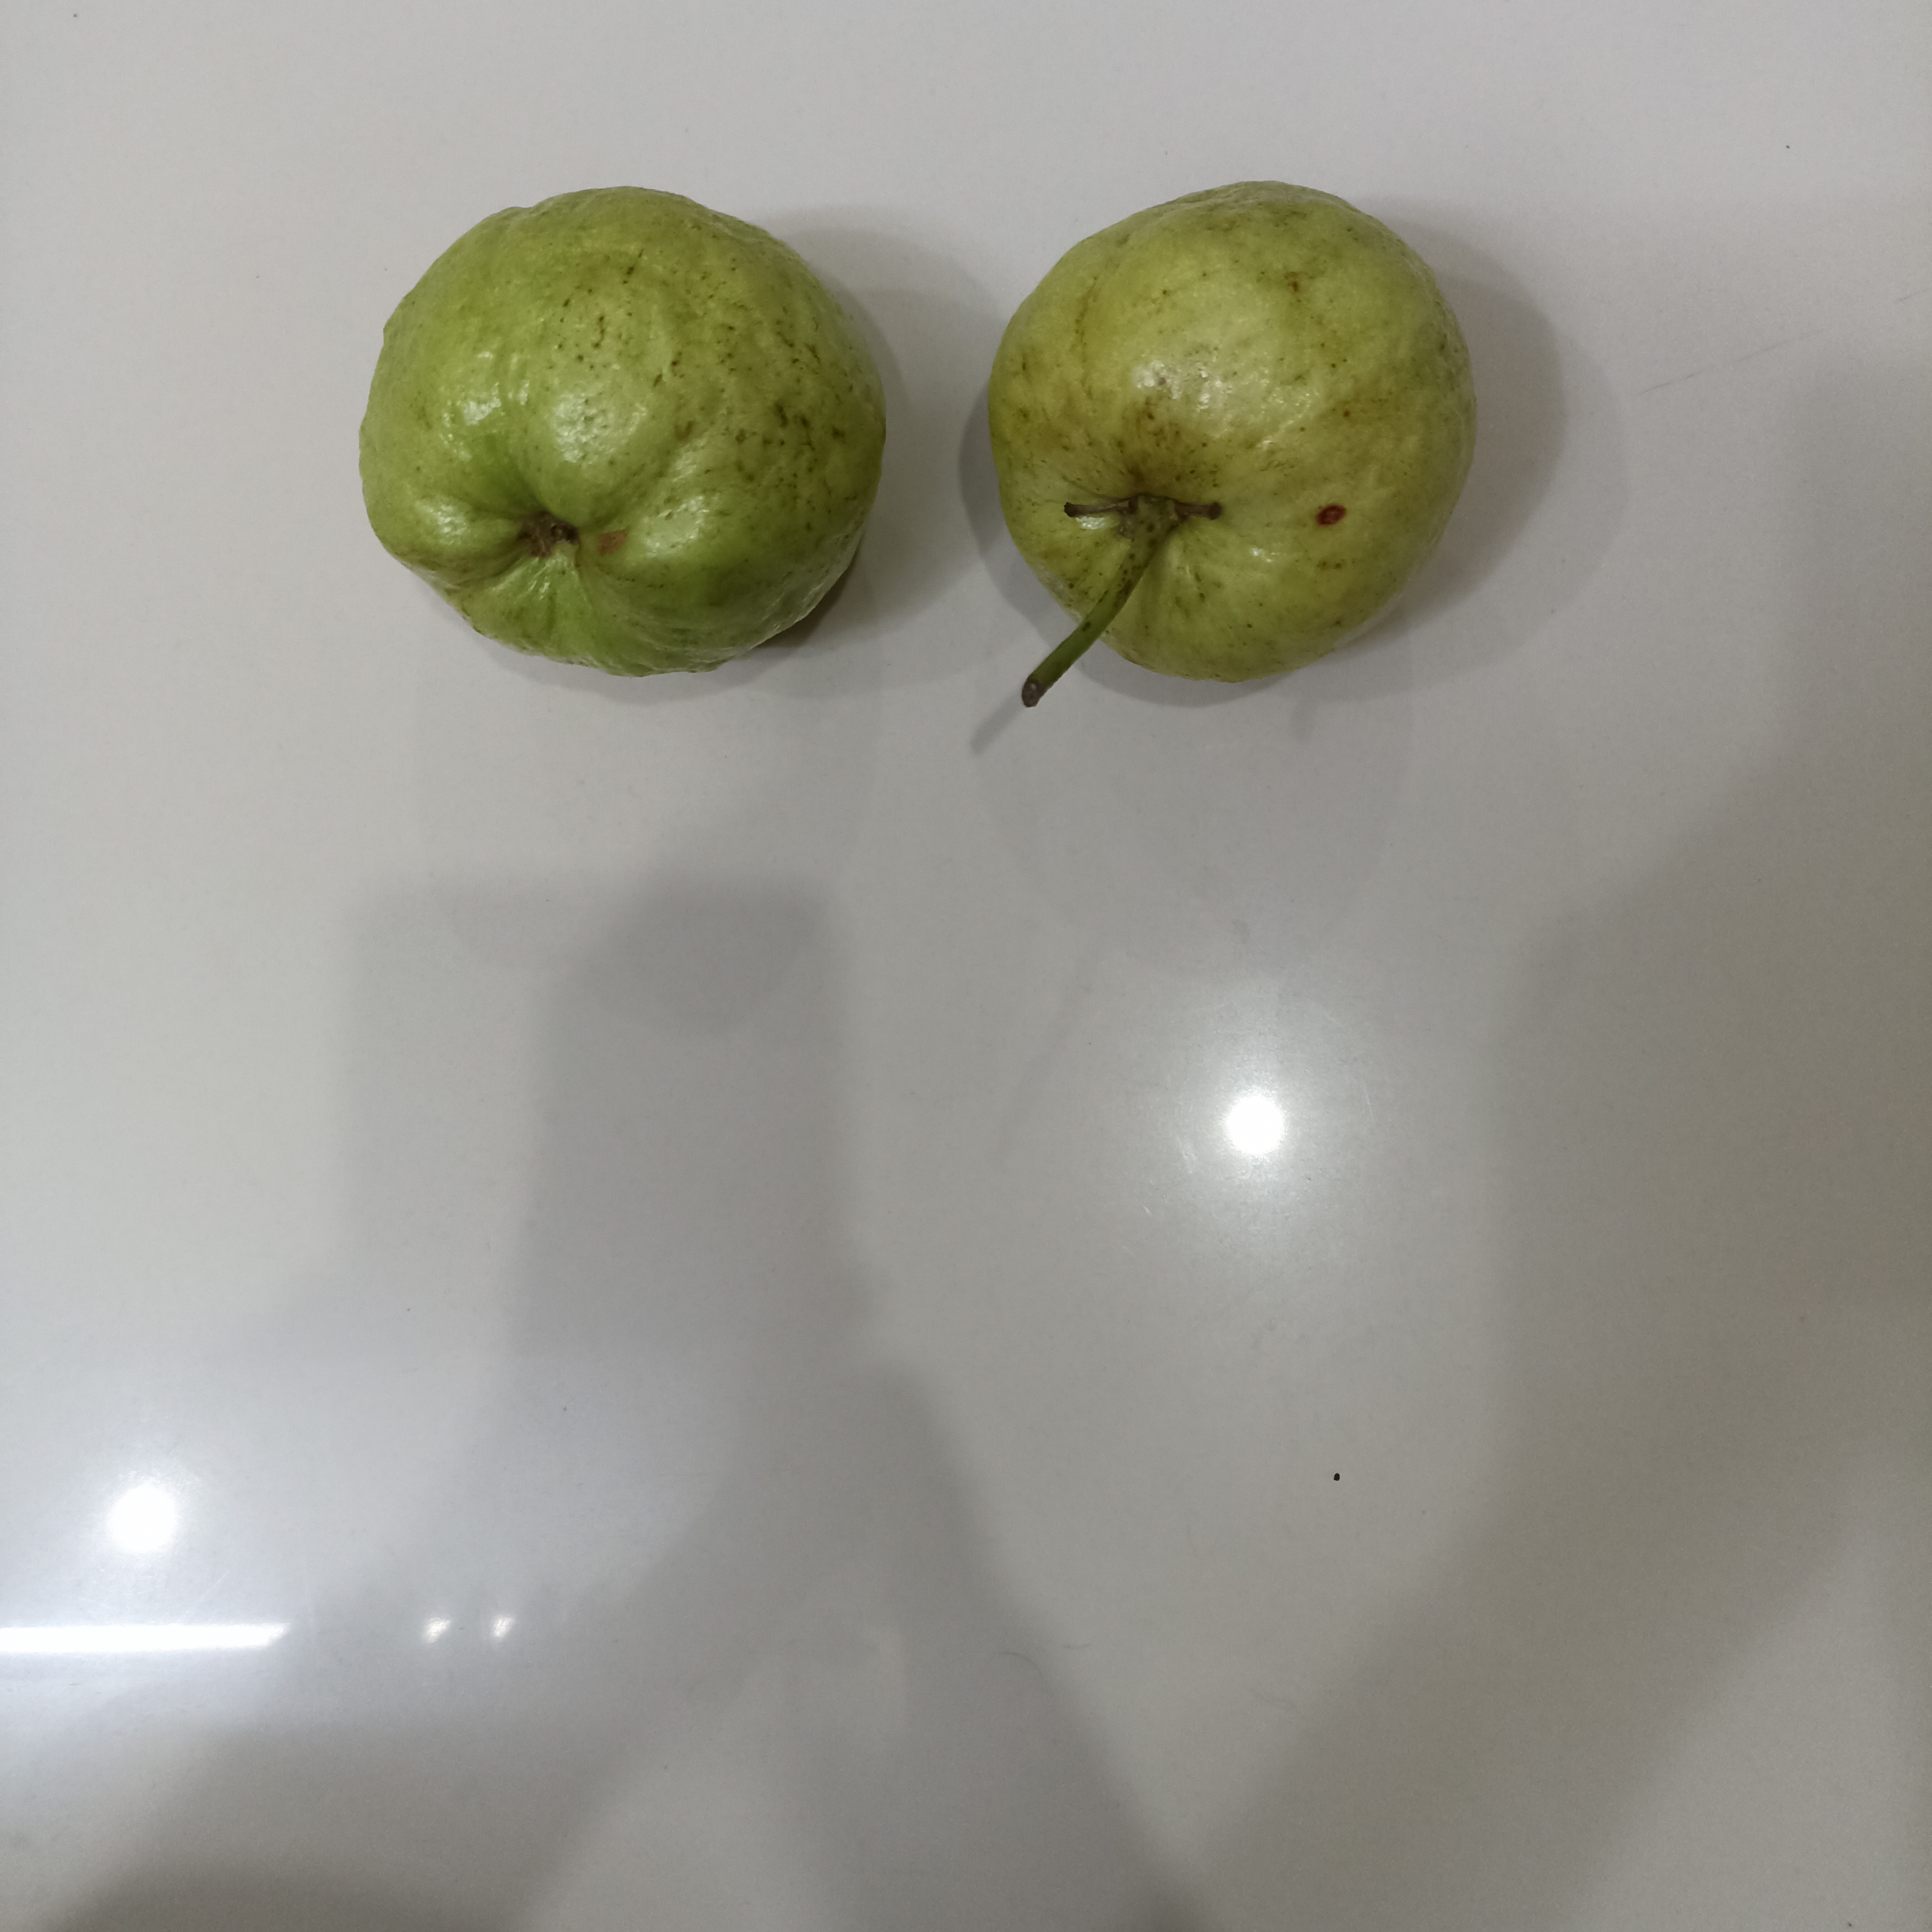Oi: (361, 191, 887, 679), (987, 183, 1472, 682)
